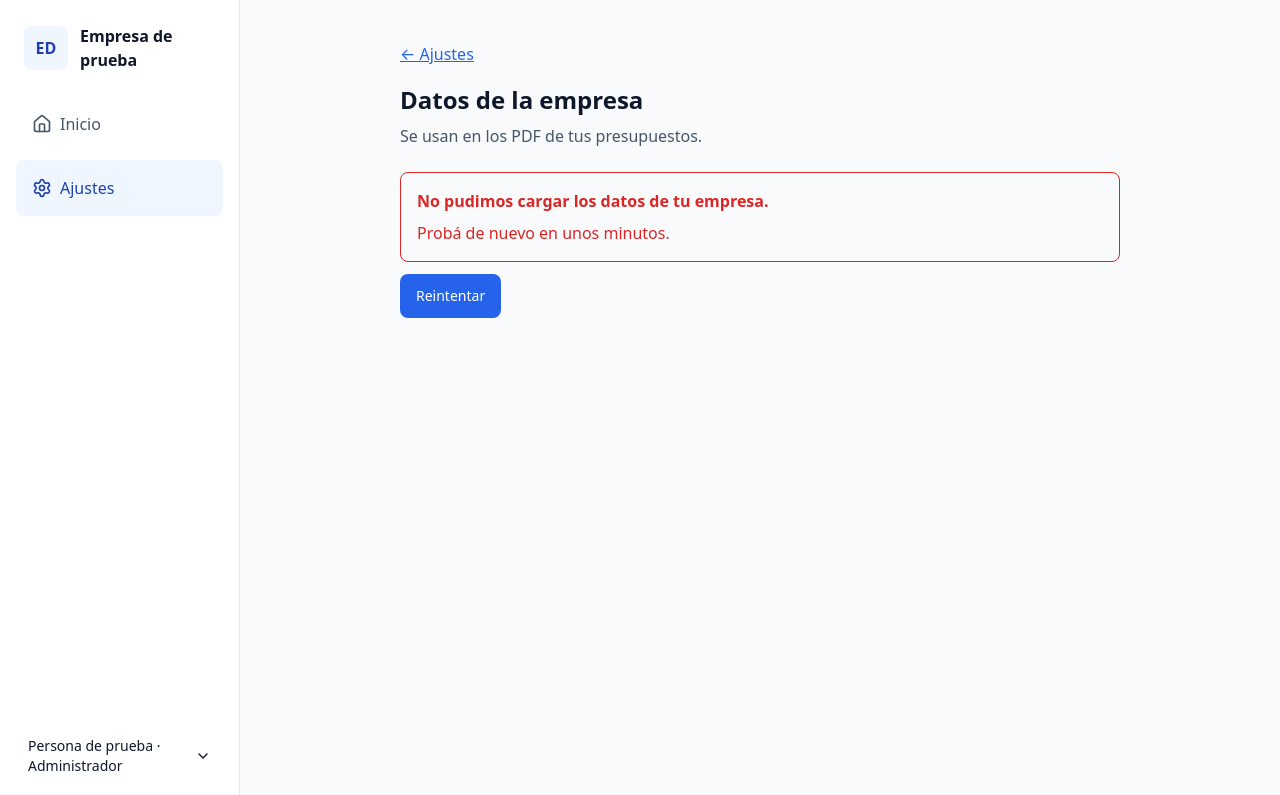
Test: CompanyPage data form › offers to retry when the company cannot be loaded
This screenshot has width=1280, height=795.
Check: the text "No pudimos cargar los datos de tu empresa." is shown, box [417,190,768,212]
Click the button "Reintentar": (451, 296) [400,274,501,318]
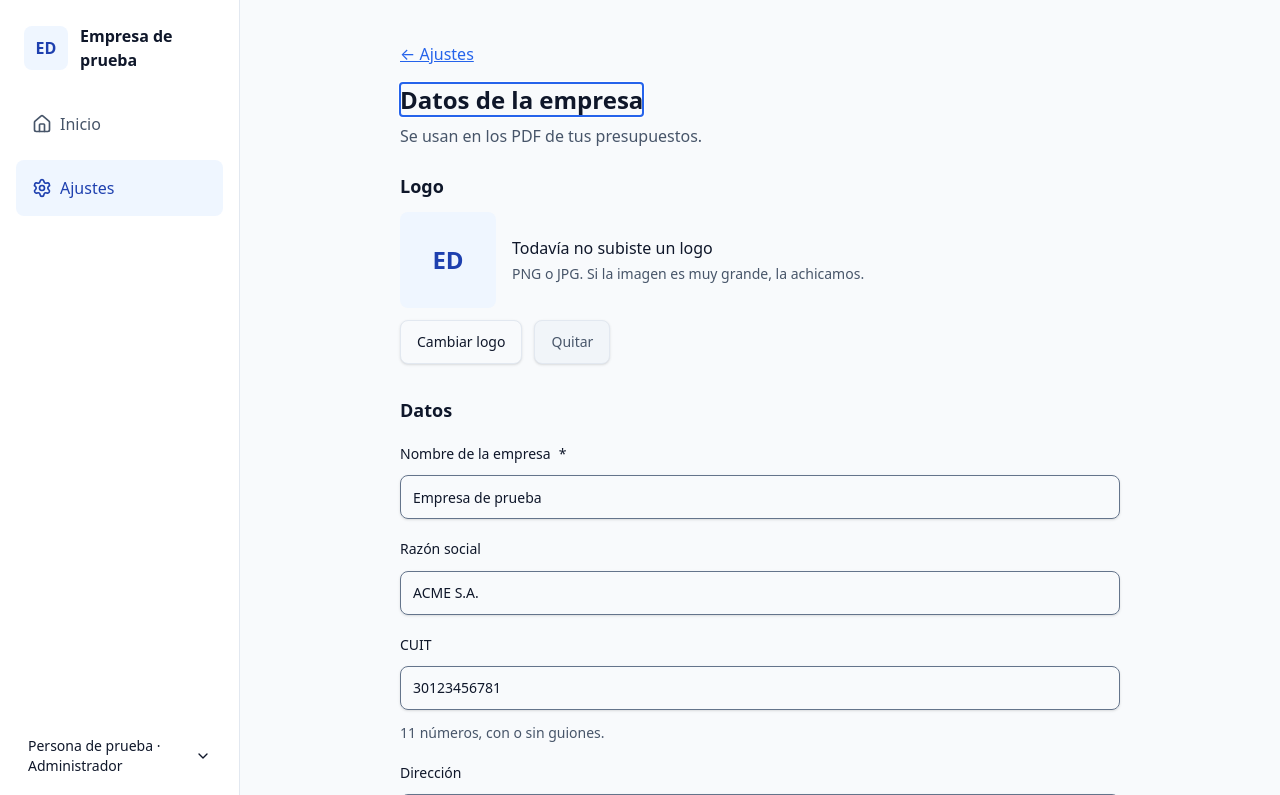
Check: the field labelled "Razón social" holds "ACME S.A.", box [400,570,1120,614]
